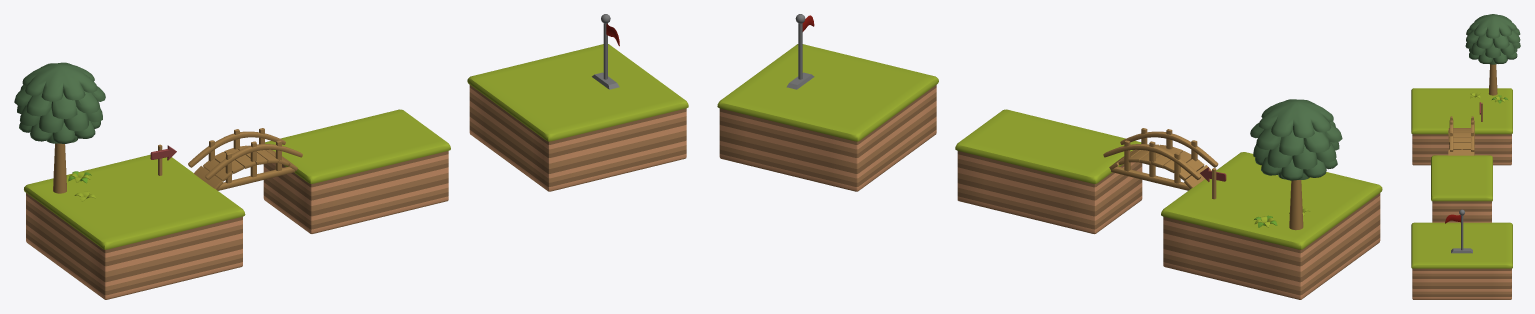
Rendered from SC_Beginner_Start.fbx.
The picture shows the model from 3 angles, left to right: view 1: azimuth 30°, elevation 25°; view 2: azimuth 150°, elevation 25°; view 3: azimuth 270°, elevation 25°; orthographic projection. The views are drawn at different scales.
Parts seen in each view (by area): view 1: SM_Ground_10x10.001, SM_Ground_10x10, SM_Ground_10x5, SM_Tree, SM_Bridge_Small, SM_Goal_Flag; view 2: SM_Ground_10x10.001, SM_Ground_10x10, SM_Ground_10x5, SM_Tree, SM_Bridge_Small, SM_Goal_Flag; view 3: SM_Ground_10x10.001, SM_Ground_10x10, SM_Ground_10x5, SM_Tree, SM_Bridge_Small, SM_Goal_Flag.
Part boxes in pixels (x1,y1,x2,y2): SM_Ground_10x10.001: [467, 44, 688, 191]; SM_Ground_10x10: [24, 154, 245, 299]; SM_Ground_10x5: [263, 109, 450, 233]; SM_Tree: [14, 62, 105, 193]; SM_Bridge_Small: [188, 128, 302, 190]; SM_Goal_Flag: [592, 14, 619, 89]; SM_Ground_10x10.001: [717, 44, 938, 191]; SM_Ground_10x10: [1161, 152, 1382, 299]; SM_Ground_10x5: [955, 109, 1142, 234]; SM_Tree: [1250, 99, 1342, 230]; SM_Bridge_Small: [1103, 128, 1218, 190]; SM_Goal_Flag: [786, 14, 814, 89]; SM_Ground_10x10.001: [1411, 222, 1512, 299]; SM_Ground_10x10: [1411, 88, 1512, 165]; SM_Ground_10x5: [1431, 155, 1492, 222]; SM_Tree: [1465, 14, 1520, 95]; SM_Bridge_Small: [1448, 116, 1474, 155]; SM_Goal_Flag: [1445, 209, 1472, 253].
Bounding box in the file's own units: 43.46 × 12.64 × 11.01.
